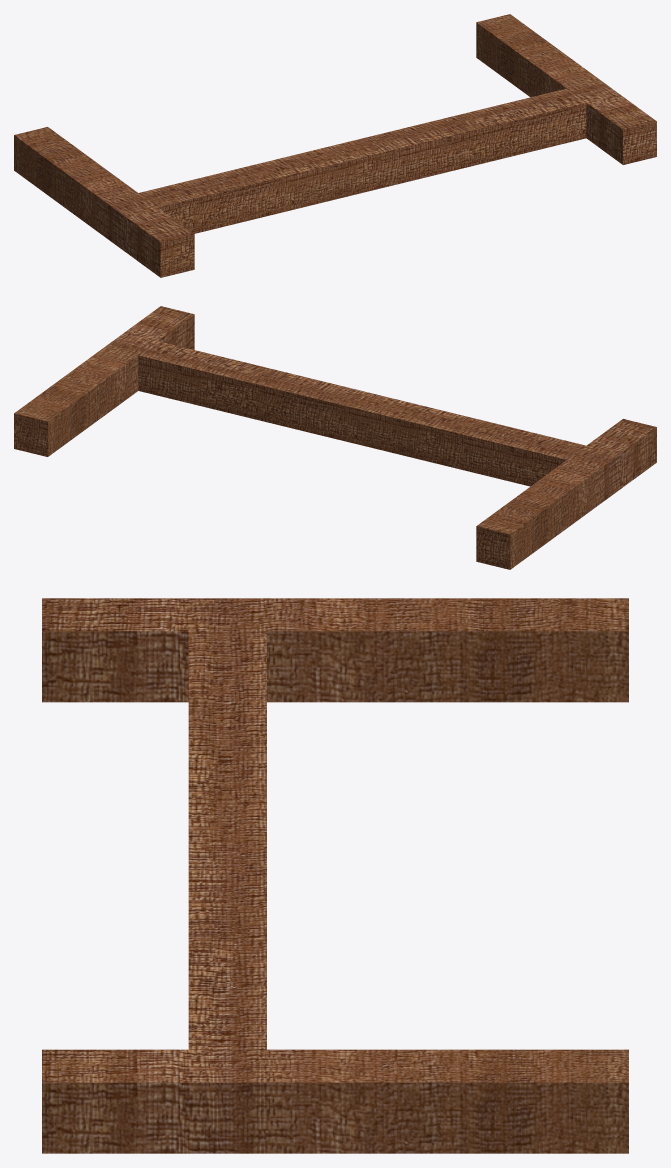
Rendered from tableLegs.obj.
3 views of the same model, one above another, from view 1: azimuth 30°, elevation 25°; view 2: azimuth 150°, elevation 25°; view 3: azimuth 270°, elevation 25° (orthographic). The views are drawn at different scales.
Parts seen in each view (by area): view 1: Root|tableLegs_(Default)|Default|unfinished_mahogany_2d; view 2: Root|tableLegs_(Default)|Default|unfinished_mahogany_2d; view 3: Root|tableLegs_(Default)|Default|unfinished_mahogany_2d.
Part boxes in pixels (x1=…): Root|tableLegs_(Default)|Default|unfinished_mahogany_2d: x1=14, y1=14, x2=656, y2=277; Root|tableLegs_(Default)|Default|unfinished_mahogany_2d: x1=14, y1=306, x2=656, y2=569; Root|tableLegs_(Default)|Default|unfinished_mahogany_2d: x1=42, y1=598, x2=628, y2=1153.
Bounding box in the file's own units: 1.46 × 0.1 × 0.75.
